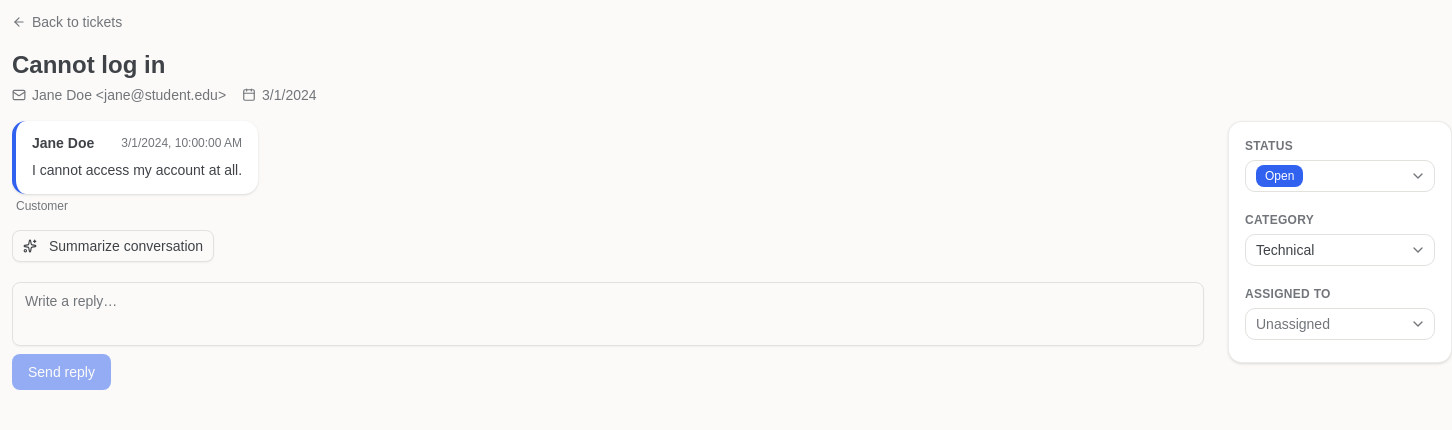
Test: Polish Button › shows an error message when polishReply fails
Type "Draft" into the text box with placeholder "Write a reply…" at (608,314), box left=12, top=282, right=1204, bottom=346
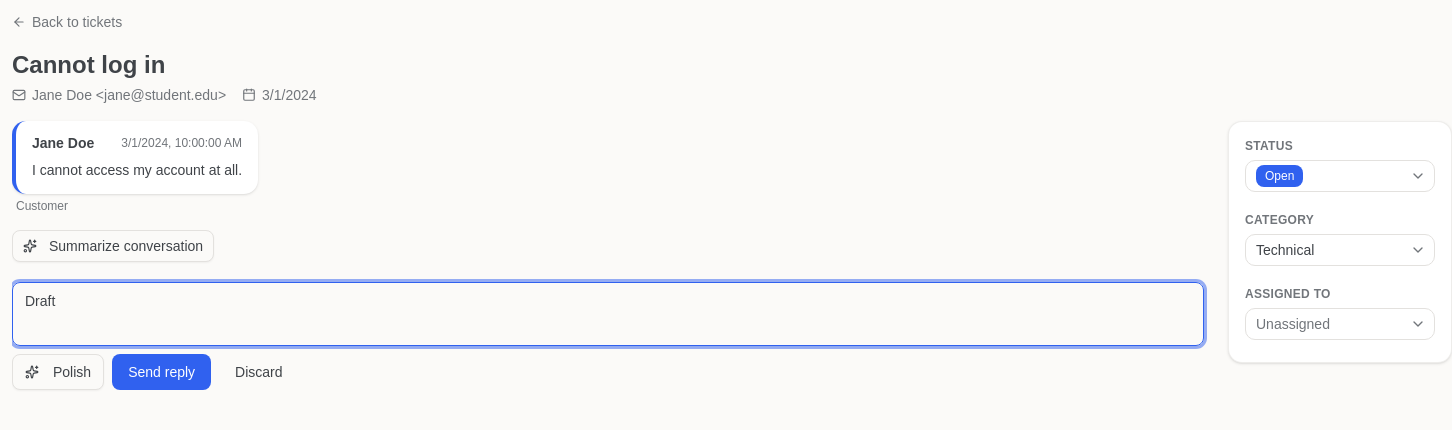
Click the button "Polish" at (58,372), box left=12, top=354, right=104, bottom=390
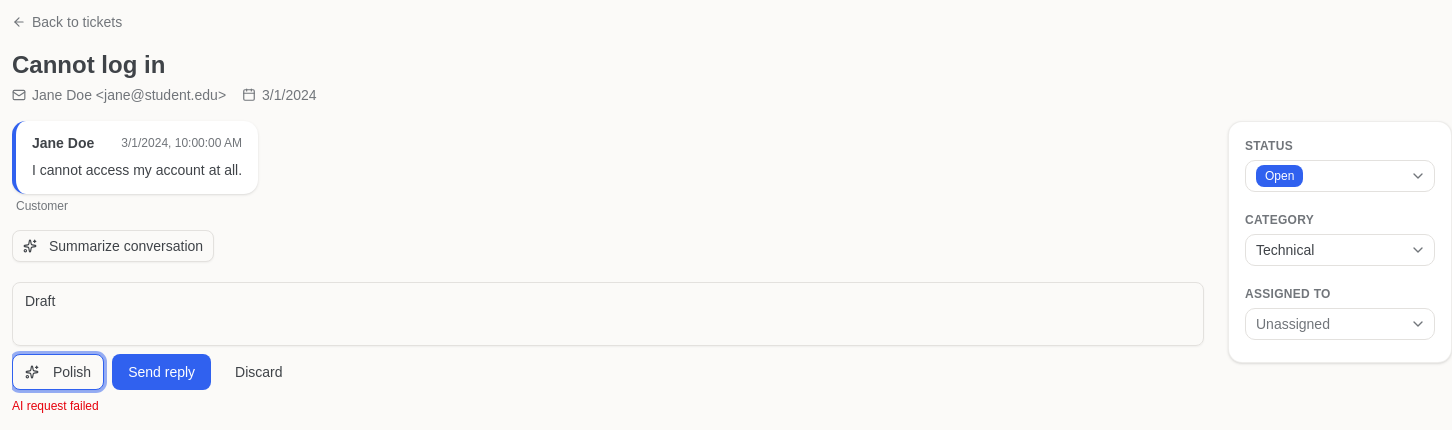
Now the text "AI request failed" is shown, box left=12, top=399, right=99, bottom=413
